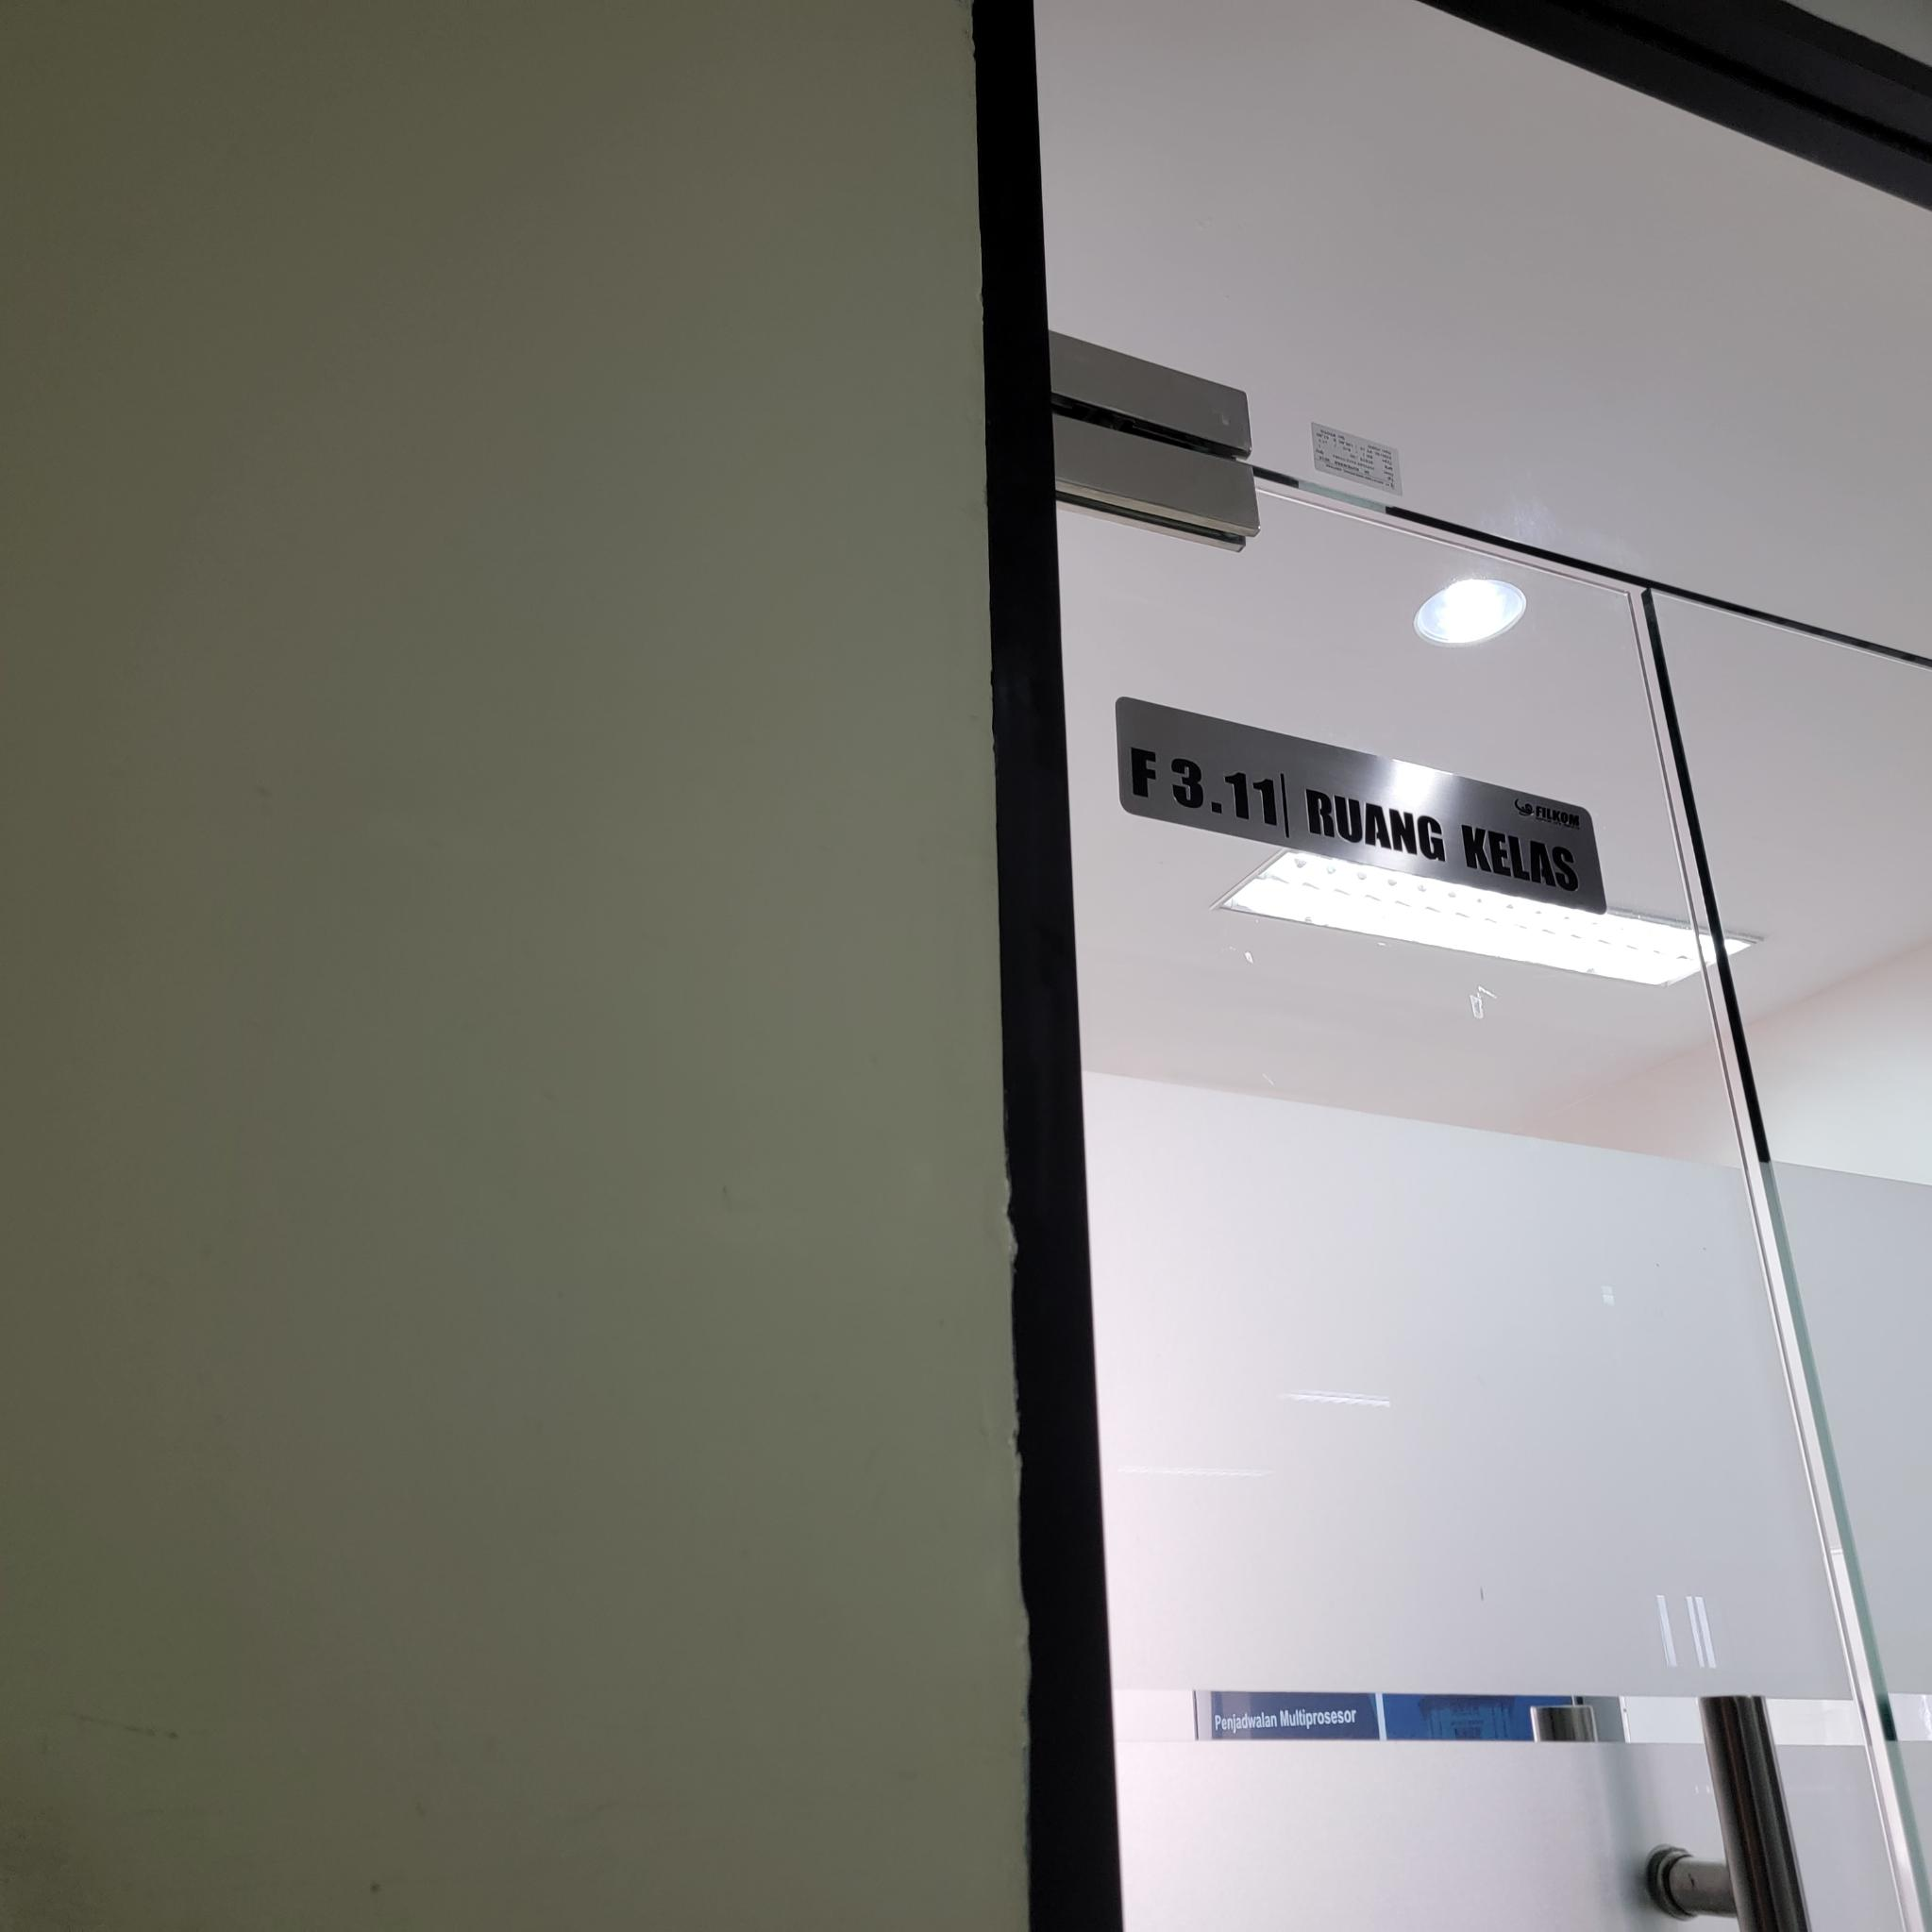plate: (1116, 694, 1606, 916)
